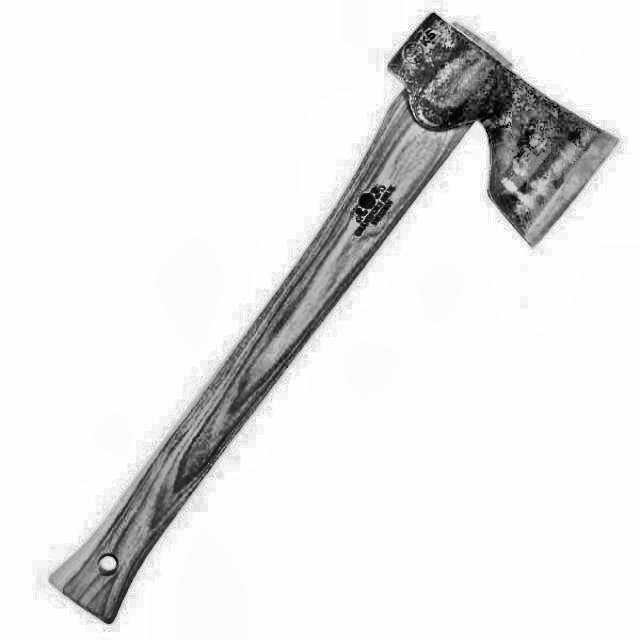kapak: (46, 6, 635, 626)
